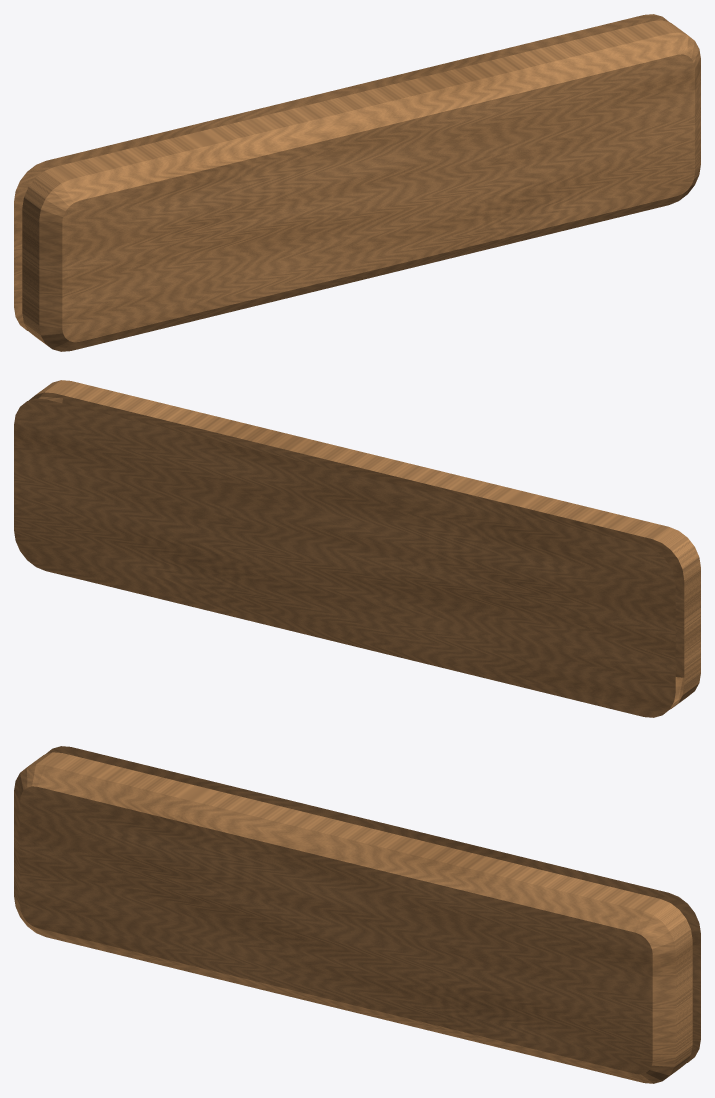
Rendered from Plank_Narrow_Oak.obj.
3 renders of one model, top to bottom at view 1: azimuth 30°, elevation 25°; view 2: azimuth 150°, elevation 25°; view 3: azimuth 330°, elevation 25°, orthographic.
Visible parts, largest first — view 1: Plank_Narrow_Oak; view 2: Plank_Narrow_Oak; view 3: Plank_Narrow_Oak.
Boxes of the visible parts, x1,y1,x2,y2 form: Plank_Narrow_Oak: (14,14,700,351); Plank_Narrow_Oak: (14,380,700,717); Plank_Narrow_Oak: (14,746,700,1083).
Bounding box in the file's own units: 2.5 × 0.62 × 0.22.
Materials: 1 (1 with a texture image).
